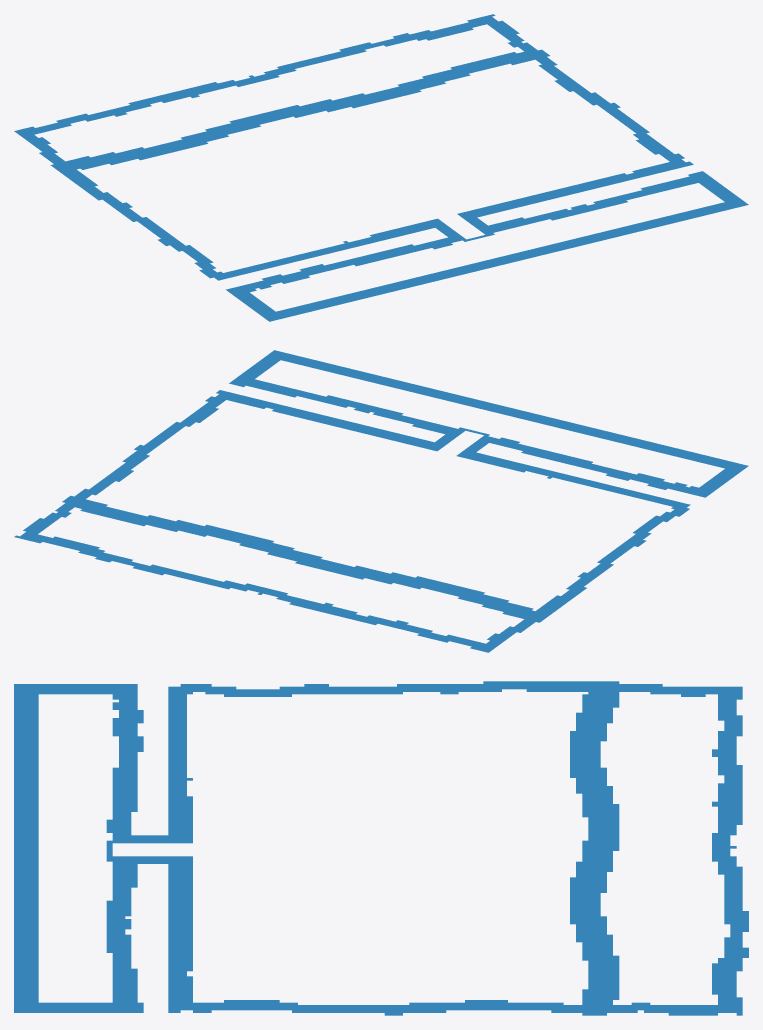
File: Map-M2-PlaceForWaterObjects.fbx
3 renders of one model, top to bottom at view 1: azimuth 30°, elevation 25°; view 2: azimuth 150°, elevation 25°; view 3: azimuth 270°, elevation 25°, orthographic. The views are drawn at different scales.
Visible parts, largest first — view 1: Map-M2-PlaceForWaterObjects; view 2: Map-M2-PlaceForWaterObjects; view 3: Map-M2-PlaceForWaterObjects.
Part boxes in pixels (<box>): Map-M2-PlaceForWaterObjects: <box>14,14,748,321</box>; Map-M2-PlaceForWaterObjects: <box>14,350,748,652</box>; Map-M2-PlaceForWaterObjects: <box>14,681,748,1015</box>.
Size of the model in its own units: 128 by 0 by 119.
